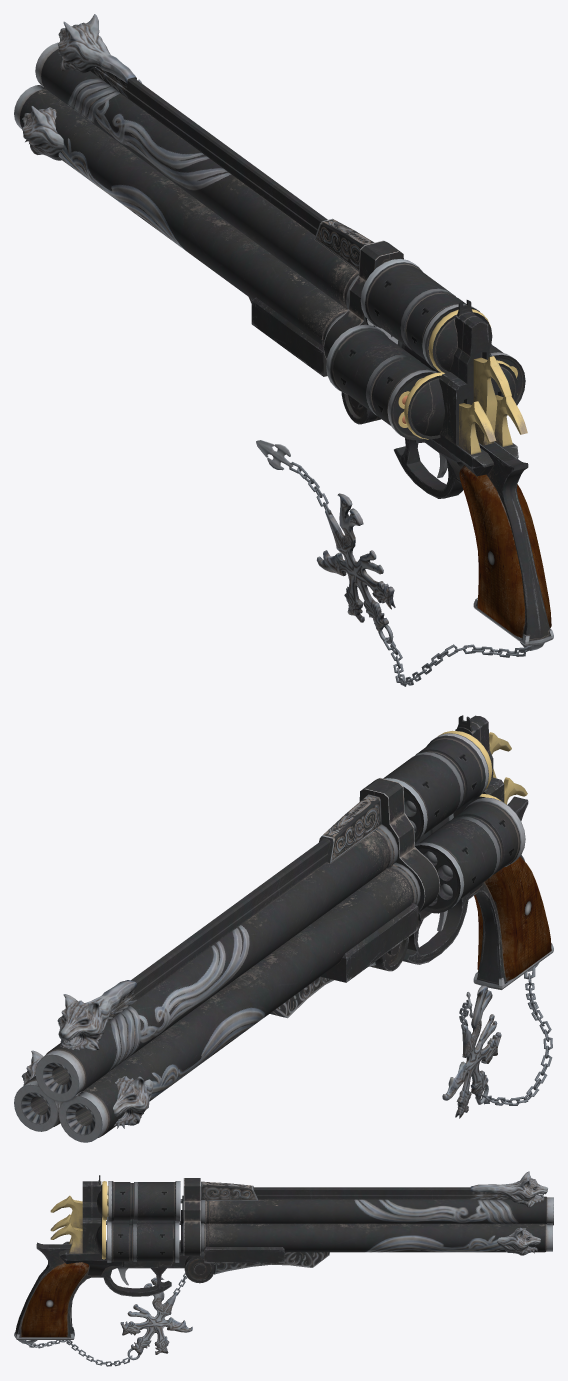
Rendered from gun.obj.
3 views of the same model, one above another, from view 1: azimuth 30°, elevation 25°; view 2: azimuth 150°, elevation 25°; view 3: azimuth 270°, elevation 25° (orthographic). The views are drawn at different scales.
Parts seen in each view (by area): view 1: Cerberus00_Fixed; view 2: Cerberus00_Fixed; view 3: Cerberus00_Fixed.
Boxes of the visible parts, x1=… form: Cerberus00_Fixed: x1=14, y1=14, x2=553, y2=686; Cerberus00_Fixed: x1=14, y1=715, x2=553, y2=1142; Cerberus00_Fixed: x1=14, y1=1171, x2=553, y2=1366.
Size of the model in its own units: 0.3251 by 0.6599 by 1.56.
